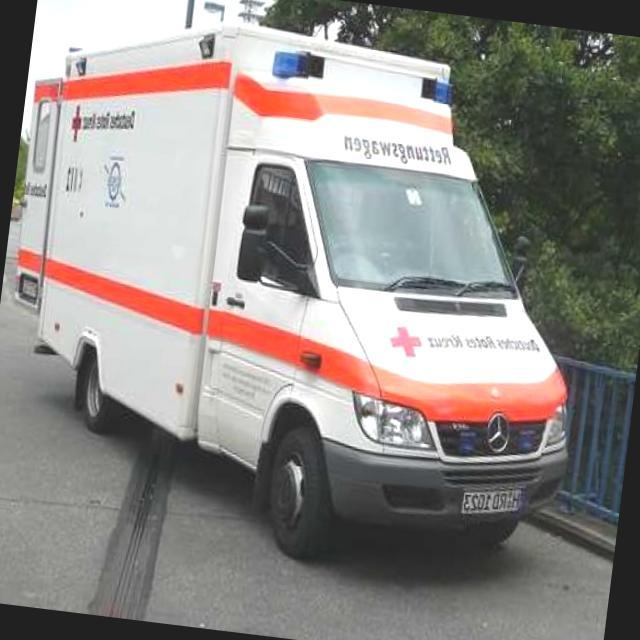emergency-vehicle: (0, 0, 611, 589)
